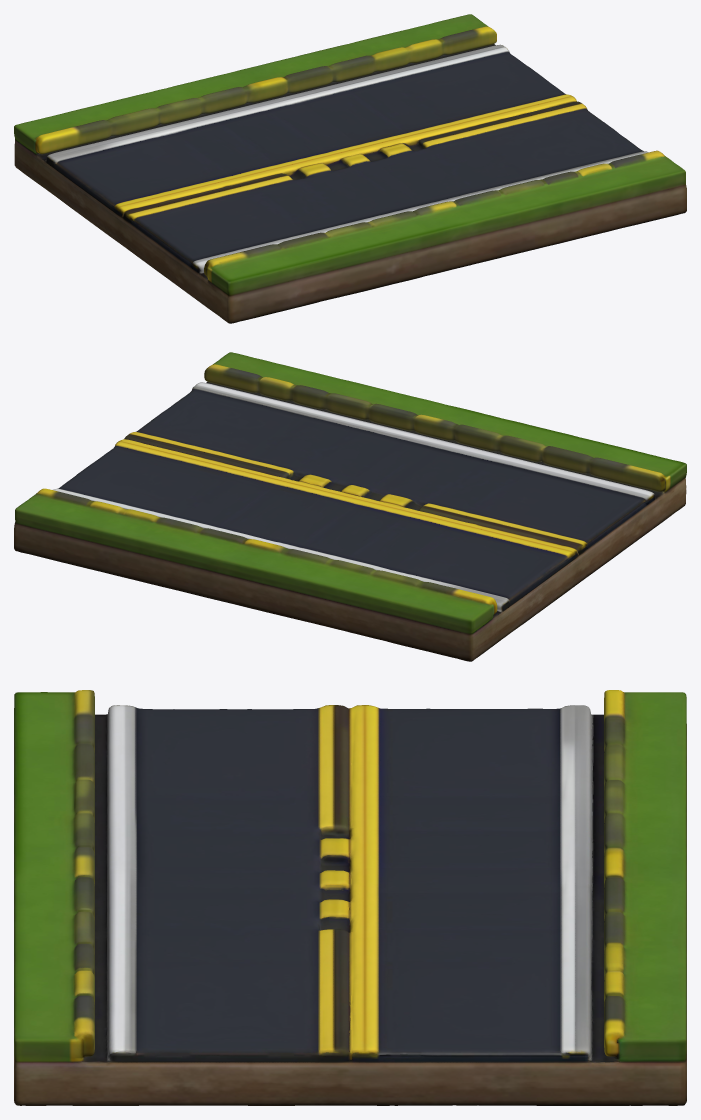
File: road_segment_3d_model_1.fbx
The picture shows the model from 3 angles, top to bottom: view 1: azimuth 30°, elevation 25°; view 2: azimuth 150°, elevation 25°; view 3: azimuth 270°, elevation 25°; orthographic projection. The views are drawn at different scales.
Parts seen in each view (by area): view 1: tripo_node_0aca7b98; view 2: tripo_node_0aca7b98; view 3: tripo_node_0aca7b98.
Boxes of the visible parts, x1,y1,x2,y2 form: tripo_node_0aca7b98: (14,14,686,323); tripo_node_0aca7b98: (14,352,686,661); tripo_node_0aca7b98: (14,690,686,1105).
Bounding box in the file's own units: 0.9788 × 0.0953 × 0.7962.
